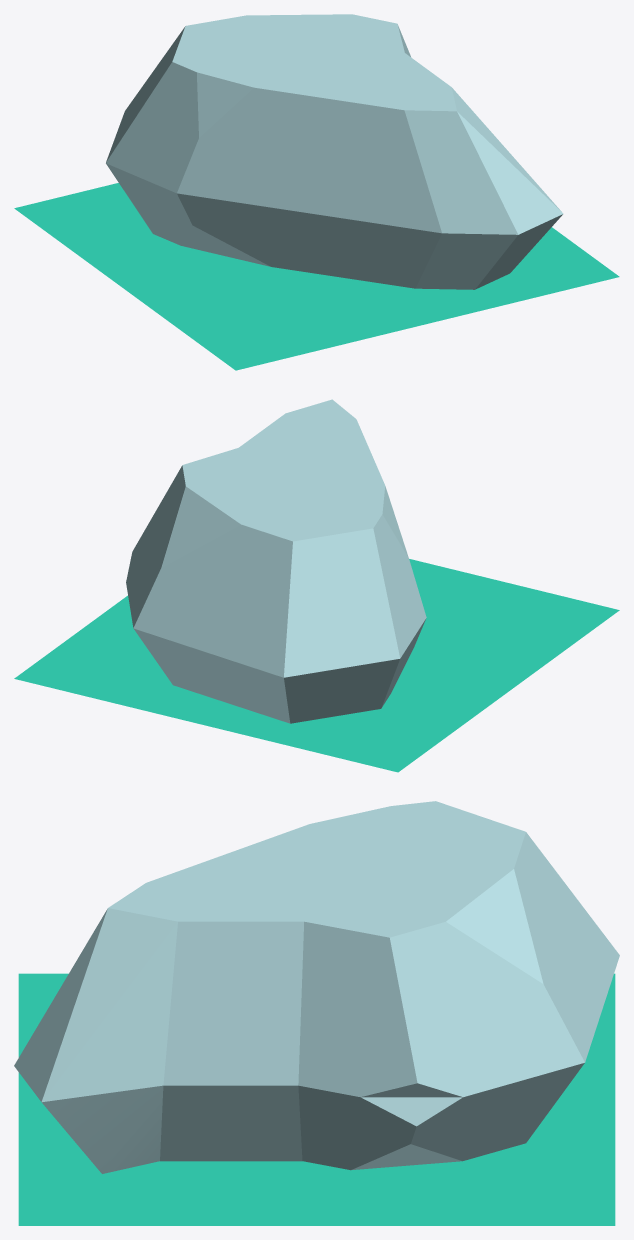
The model's file is largeRock.glb.
3 renders of one model, top to bottom at view 1: azimuth 30°, elevation 25°; view 2: azimuth 150°, elevation 25°; view 3: azimuth 270°, elevation 25°, orthographic. The views are drawn at different scales.
Visible parts, largest first — view 1: mergedBlocks(Clone); view 2: mergedBlocks(Clone); view 3: mergedBlocks(Clone).
Boxes of the visible parts, <box> form: mergedBlocks(Clone): <box>14,14,619,370</box>; mergedBlocks(Clone): <box>14,399,619,772</box>; mergedBlocks(Clone): <box>14,801,619,1225</box>.
Bounding box in the file's own units: 1 × 0.4303 × 1.02.
